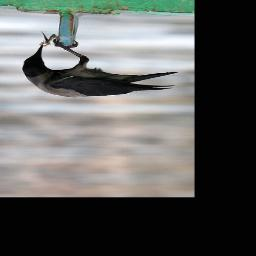Crow: (22, 39, 178, 98)
